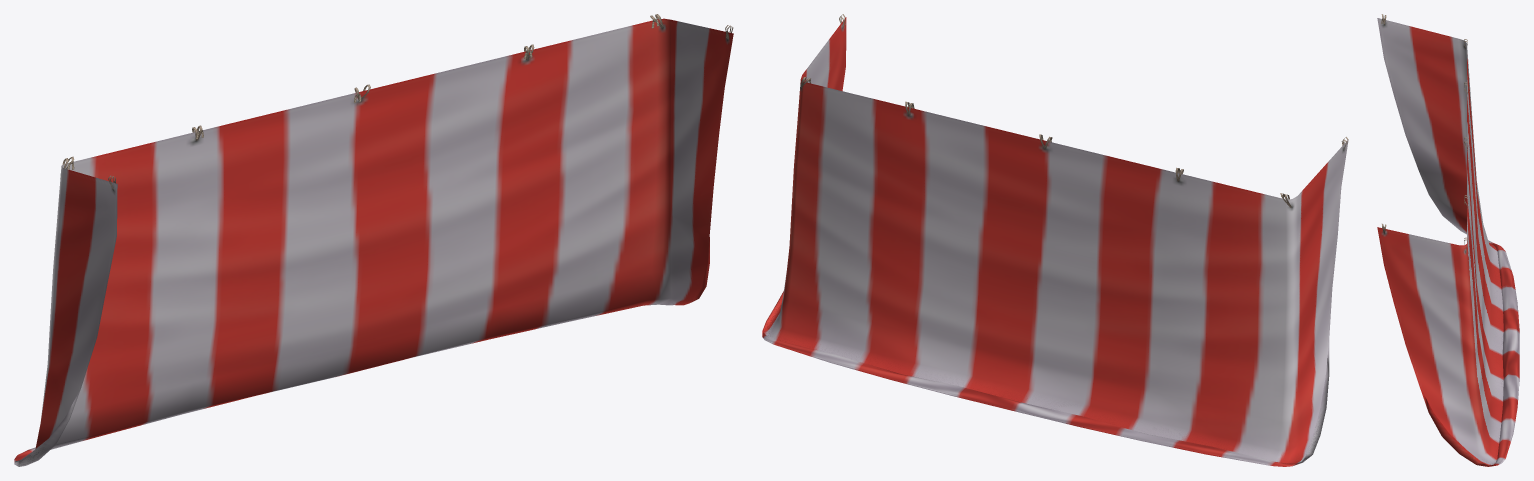
The model's file is jsf_BackSide_s04_c01_t01.fbx.
3 views of the same model, side by side, from view 1: azimuth 30°, elevation 25°; view 2: azimuth 150°, elevation 25°; view 3: azimuth 270°, elevation 25° (orthographic). The views are drawn at different scales.
Parts seen in each view (by area): view 1: jsf_BackSide_s04_c01_t01; view 2: jsf_BackSide_s04_c01_t01; view 3: jsf_BackSide_s04_c01_t01.
Part boxes in pixels (<box>): jsf_BackSide_s04_c01_t01: <box>14,14,733,466</box>; jsf_BackSide_s04_c01_t01: <box>762,14,1348,466</box>; jsf_BackSide_s04_c01_t01: <box>1377,14,1519,466</box>.
Bounding box in the file's own units: 425 × 205 × 112.
